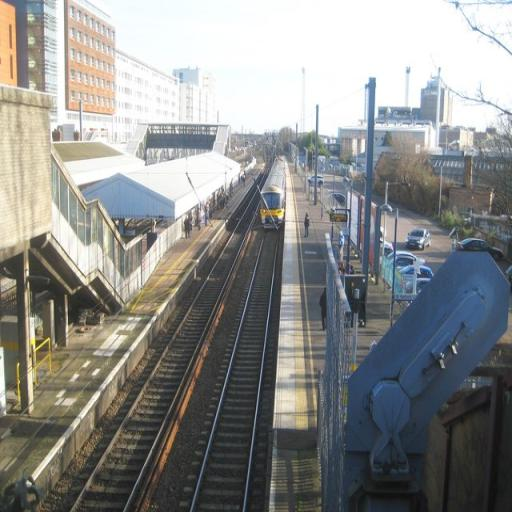platform_edge: (259, 242, 321, 512)
